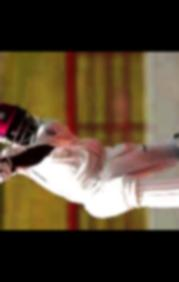batsman: (0, 92, 179, 222)
